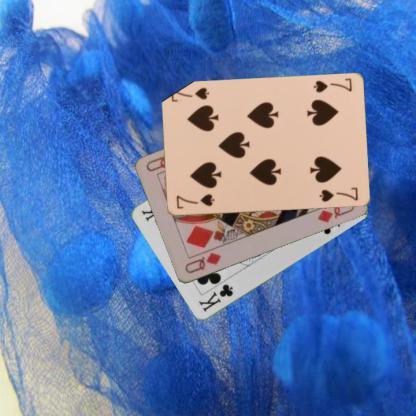7s: (174, 192, 215, 210), (311, 76, 352, 94)
Kc: (195, 282, 235, 314)
Qd: (182, 250, 222, 276)
